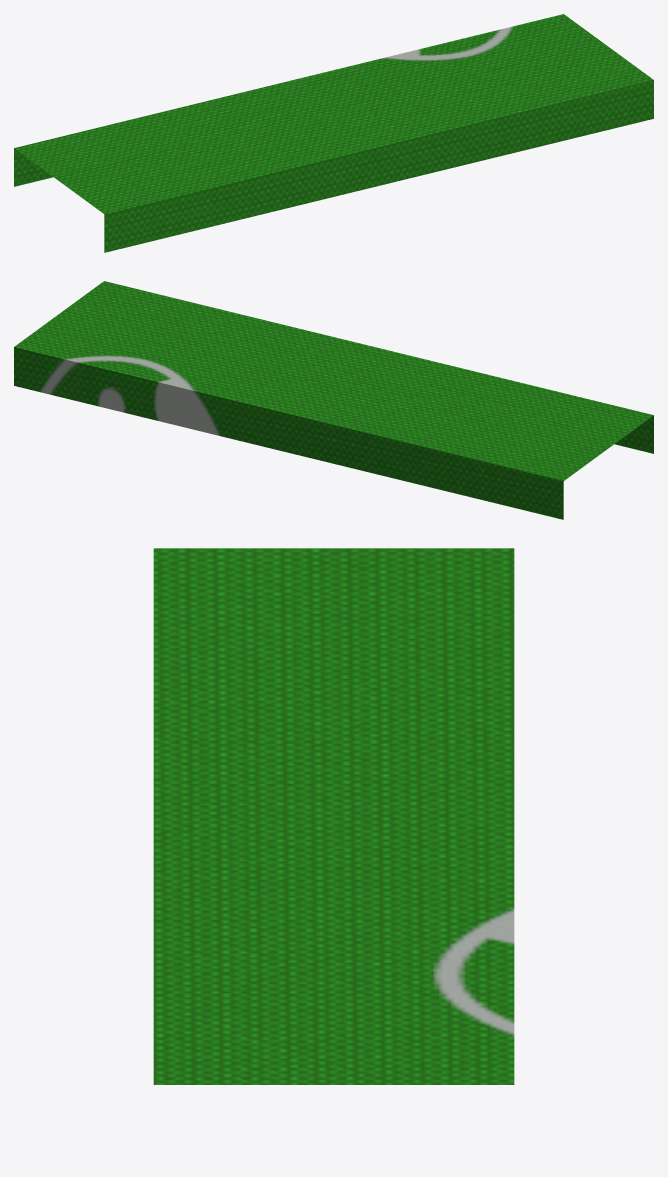
Rendered from MOD_SurrealPath.fbx.
The picture shows the model from 3 angles, top to bottom: view 1: azimuth 30°, elevation 25°; view 2: azimuth 150°, elevation 25°; view 3: azimuth 270°, elevation 25°; orthographic projection. The views are drawn at different scales.
Visible parts, largest first — view 1: pPlane2; view 2: pPlane2; view 3: pPlane2.
Boxes of the visible parts, x1=… form: pPlane2: x1=14, y1=14, x2=653, y2=252; pPlane2: x1=14, y1=281, x2=653, y2=519; pPlane2: x1=153, y1=548, x2=514, y2=1084.
Size of the model in its own units: 4.8 by 0.3238 by 1.36.
